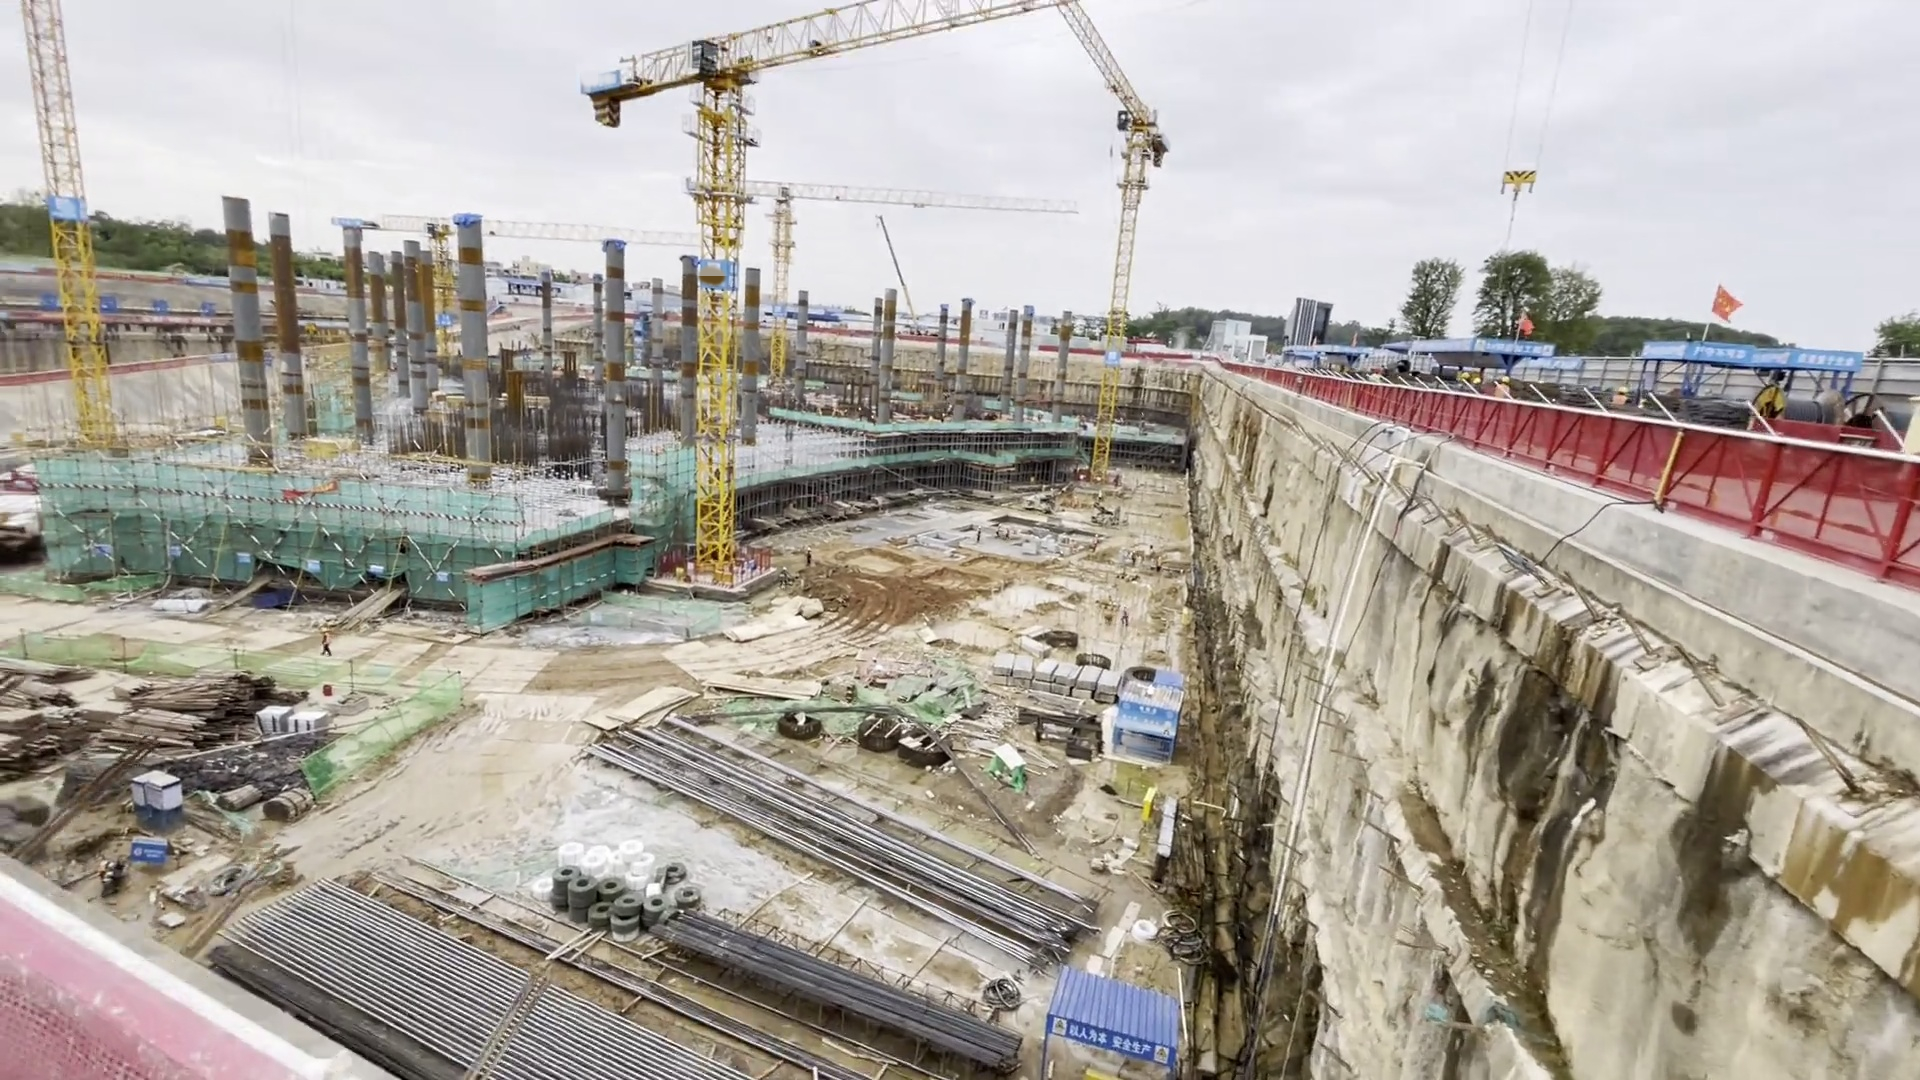brick: (666, 904, 1042, 1075), (989, 651, 1124, 702), (255, 699, 334, 736)
ebox: (713, 565, 735, 586)
fence: (1553, 413, 1920, 590)
helmet: (1617, 382, 1631, 393), (1460, 370, 1471, 380), (1500, 375, 1510, 383)
hook: (1499, 165, 1541, 197)
hopper: (252, 588, 302, 611)
person: (320, 624, 334, 657), (778, 565, 792, 589), (803, 546, 815, 568), (975, 524, 985, 546)
slogan: (1055, 1007, 1189, 1076), (2, 293, 229, 325), (1798, 344, 1862, 380), (1693, 337, 1753, 376), (1482, 340, 1561, 365)
vest: (1613, 394, 1627, 412)
wood: (121, 672, 261, 747)
